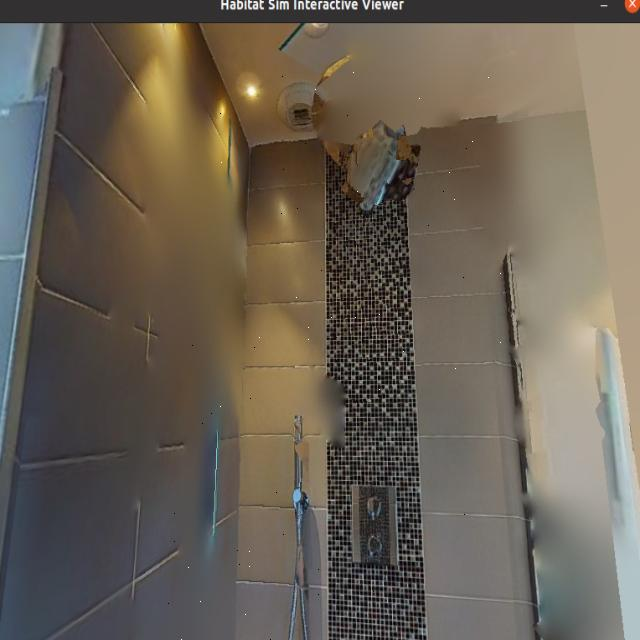shower: (164, 67, 512, 640)
